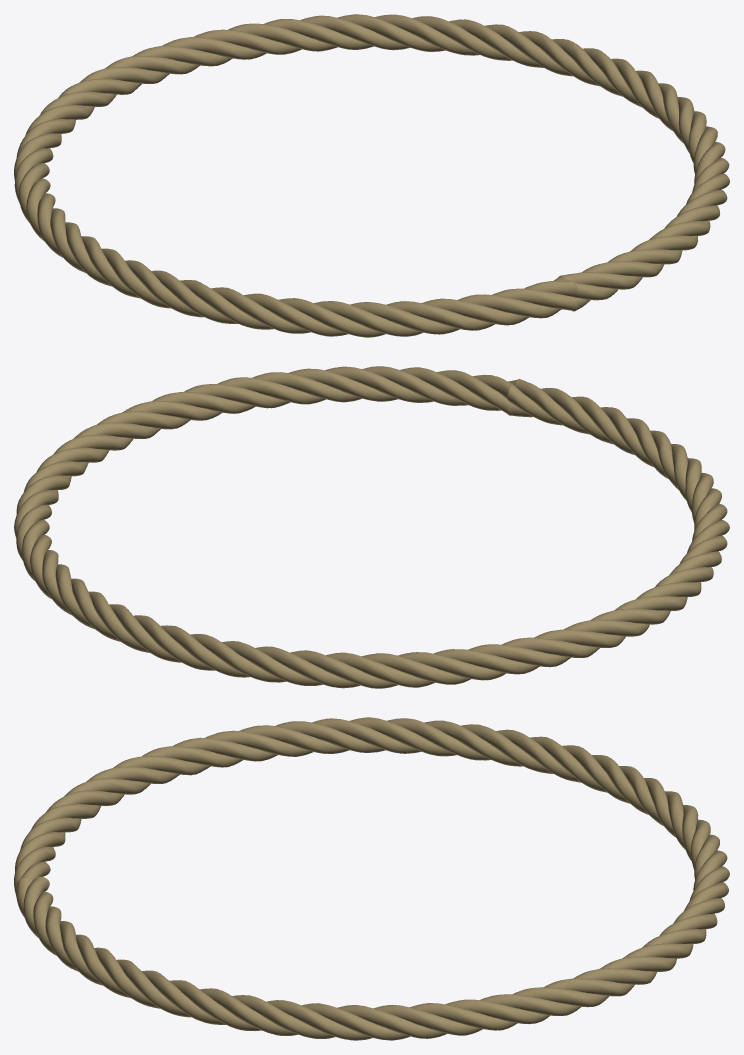
File: rope.glb
3 views of the same model, one above another, from view 1: azimuth 30°, elevation 25°; view 2: azimuth 150°, elevation 25°; view 3: azimuth 270°, elevation 25° (orthographic).
Parts seen in each view (by area): view 1: seil; view 2: seil; view 3: seil.
Part boxes in pixels (<box>): seil: <box>14,14,729,337</box>; seil: <box>14,366,729,688</box>; seil: <box>14,717,729,1040</box>.
Size of the model in its own units: 9.05 by 0.4521 by 9.04.
